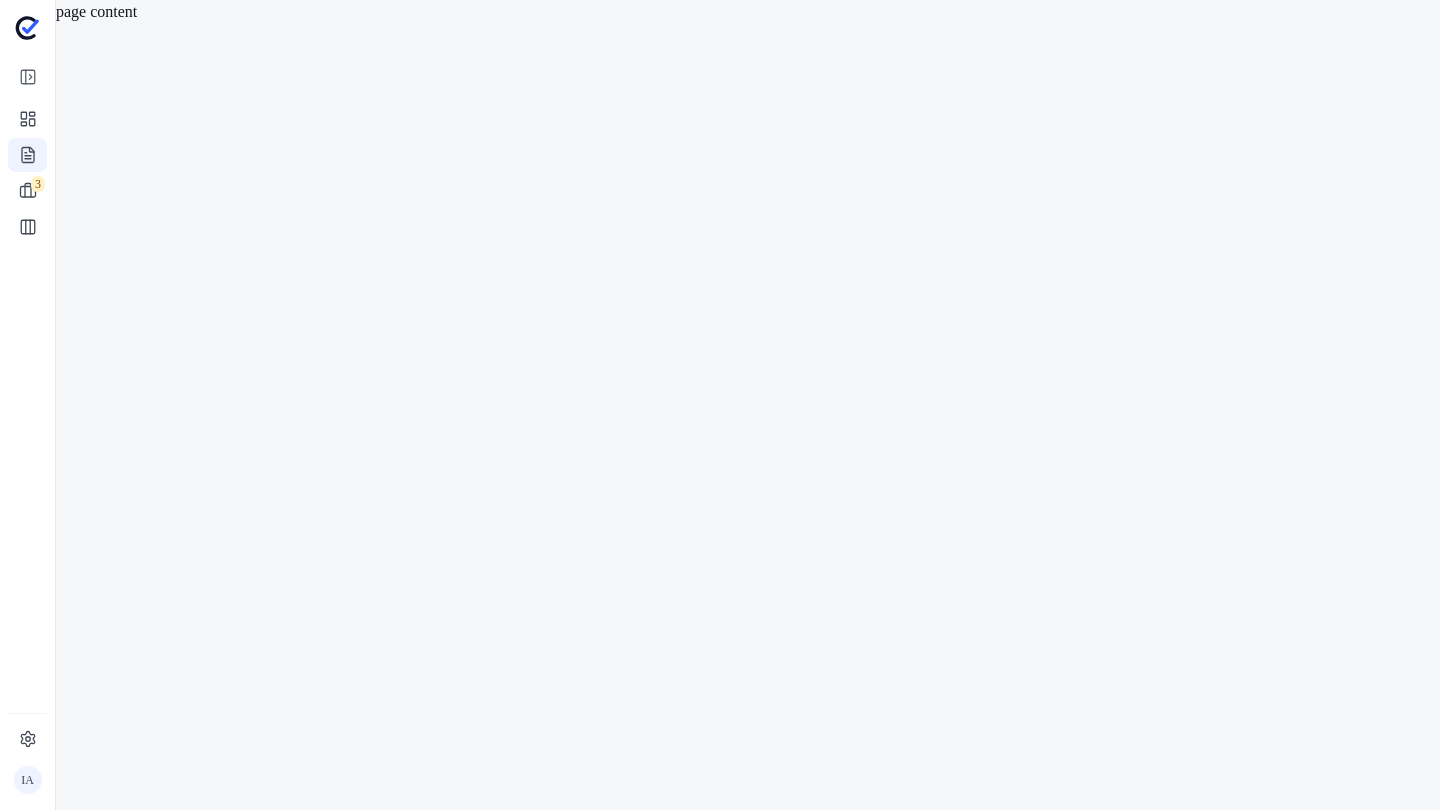
AppShell › on the editor route the rail is forced and expanding opens a drawer without saving a preference
Step 1. Click the button named "Expand sidebar" → click(28, 77), box [8,60,47,94]
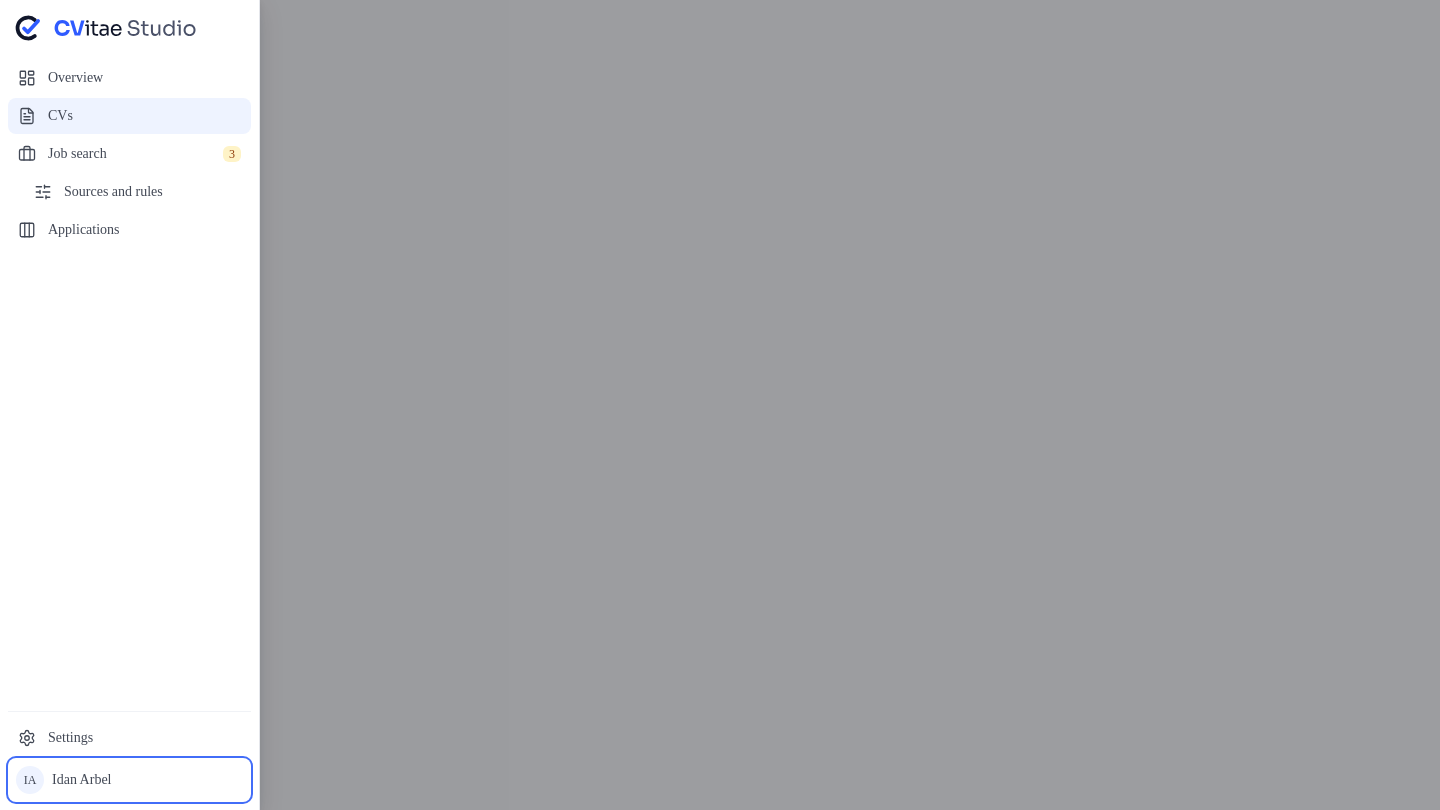
Expected: the link "Job search 3" is shown, [18,145,241,163]
